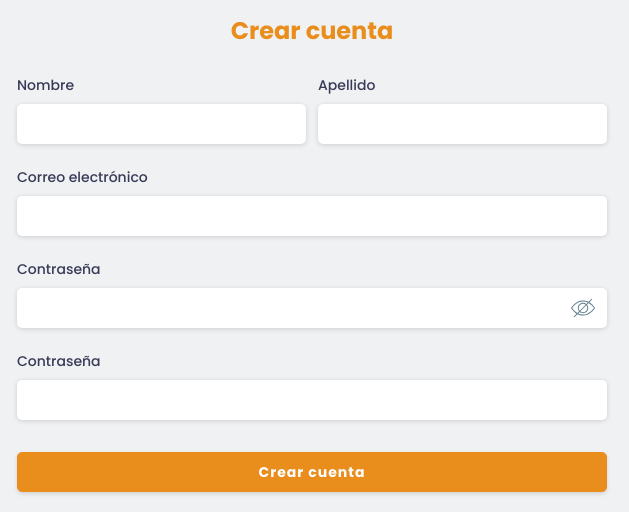
Test: Test de Formulario › Ingreso email no valido y falta de campos
In the field named "email": (312, 216) [17,196,607,236], type "emailfake"
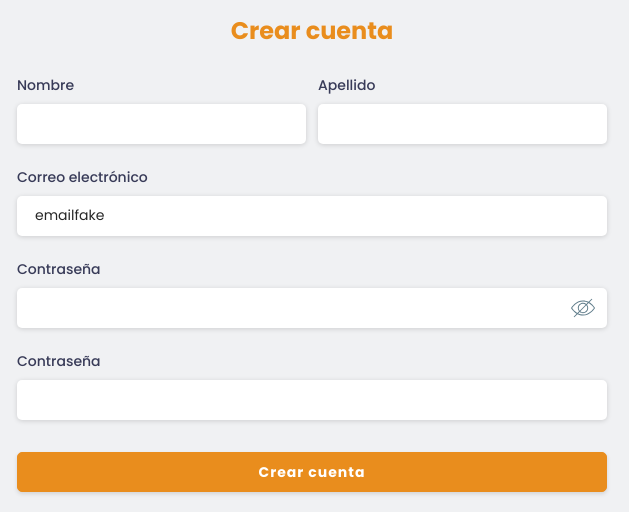
In the password field named "password": (312, 308) [17,288,607,328], type "123456"
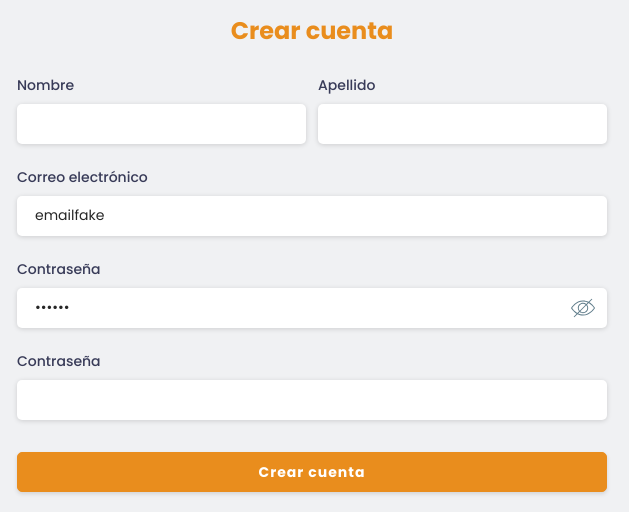
Click the button "Crear cuenta": click(312, 472) [17,452,607,492]
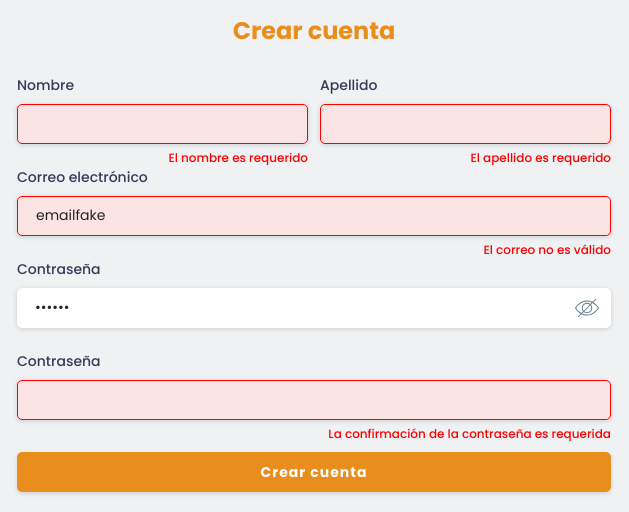
Check: the number of fields with class "error" is 4, box [17,104,308,144]; [320,104,611,144]; [17,196,611,236]; [17,380,611,420]
